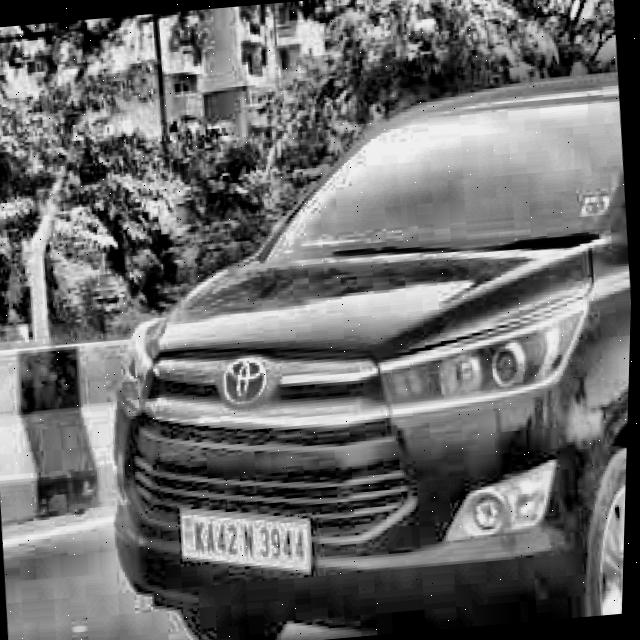light_vehicle: (78, 66, 638, 640)
